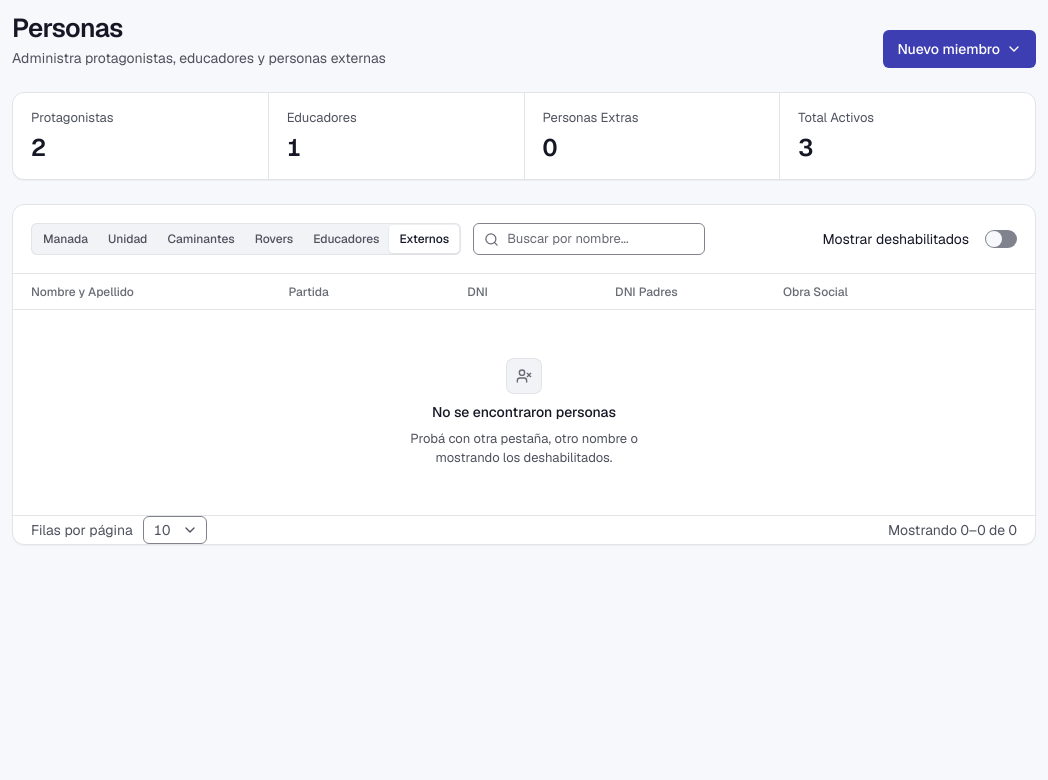
Test: <PersonasListView> › externos deshabilitados solo con "Mostrar deshabilitados" (y aparece la columna Estado)
Expected: the text "No se encontraron personas" is shown, [432,402,616,422]
Click the switch named "Mostrar deshabilitados" at [1001, 239], box [985,230,1017,248]
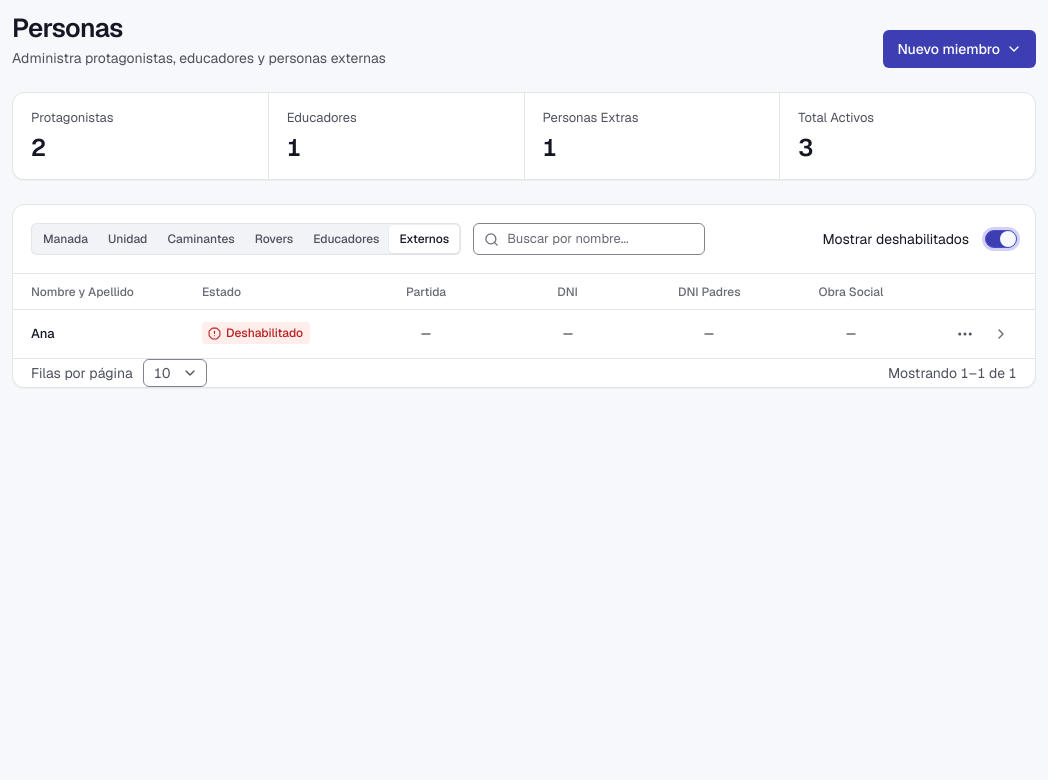
Now the link "Ana" is shown, box [31,325,55,343]
Now the column heading "Estado" is shown, box [190,274,355,310]
